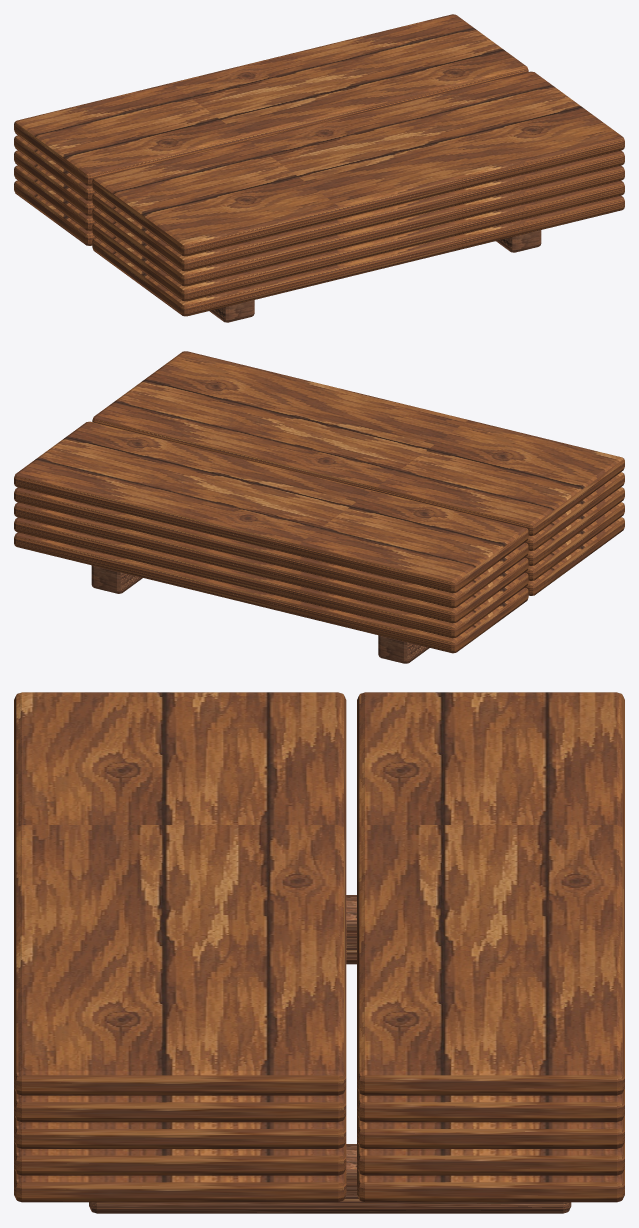
The model's file is pile-lumber.glb.
3 views of the same model, one above another, from view 1: azimuth 30°, elevation 25°; view 2: azimuth 150°, elevation 25°; view 3: azimuth 270°, elevation 25° (orthographic). The views are drawn at different scales.
Parts seen in each view (by area): view 1: plank.008, plank.009, plank, plank.006, plank.002, plank.004, plank.003, plank.005, plank.007, plank.001, batten, batten.001; view 2: plank.008, plank.009, plank.001, plank.003, plank.005, plank.007, plank, plank.002, plank.004, plank.006, batten, batten.001; view 3: plank.008, plank.009, plank, plank.006, plank.002, plank.004, plank.001, plank.007, plank.003, plank.005, batten, batten.001.
Part boxes in pixels (x1,y1,x2,y2): plank.008: [92, 71, 624, 256]; plank.009: [14, 14, 528, 185]; plank: [92, 195, 624, 316]; plank.006: [92, 150, 624, 271]; plank.002: [92, 180, 624, 301]; plank.004: [92, 165, 624, 286]; plank.003: [14, 165, 95, 230]; plank.005: [14, 150, 95, 215]; plank.007: [14, 135, 95, 200]; plank.001: [14, 180, 95, 245]; batten: [496, 230, 541, 252]; batten.001: [209, 300, 254, 322]; plank.008: [92, 351, 624, 535]; plank.009: [14, 421, 528, 593]; plank.001: [14, 532, 528, 653]; plank.003: [14, 517, 528, 638]; plank.005: [14, 502, 528, 623]; plank.007: [14, 487, 528, 608]; plank: [525, 517, 624, 595]; plank.002: [525, 502, 624, 580]; plank.004: [525, 487, 624, 565]; plank.006: [525, 472, 624, 550]; batten: [91, 565, 142, 593]; batten.001: [378, 635, 429, 663]; plank.008: [14, 692, 346, 1095]; plank.009: [357, 692, 624, 1095]; plank: [14, 1168, 346, 1202]; plank.006: [14, 1088, 346, 1122]; plank.002: [14, 1142, 346, 1175]; plank.004: [14, 1115, 346, 1148]; plank.001: [357, 1168, 624, 1202]; plank.007: [357, 1088, 624, 1122]; plank.003: [357, 1142, 624, 1175]; plank.005: [357, 1115, 624, 1148]; batten: [89, 1144, 571, 1213]; batten.001: [346, 895, 356, 964].
Bounding box in the file's own units: 1.7 × 0.405 × 1.14.
Materials: 2 (2 with a texture image).
